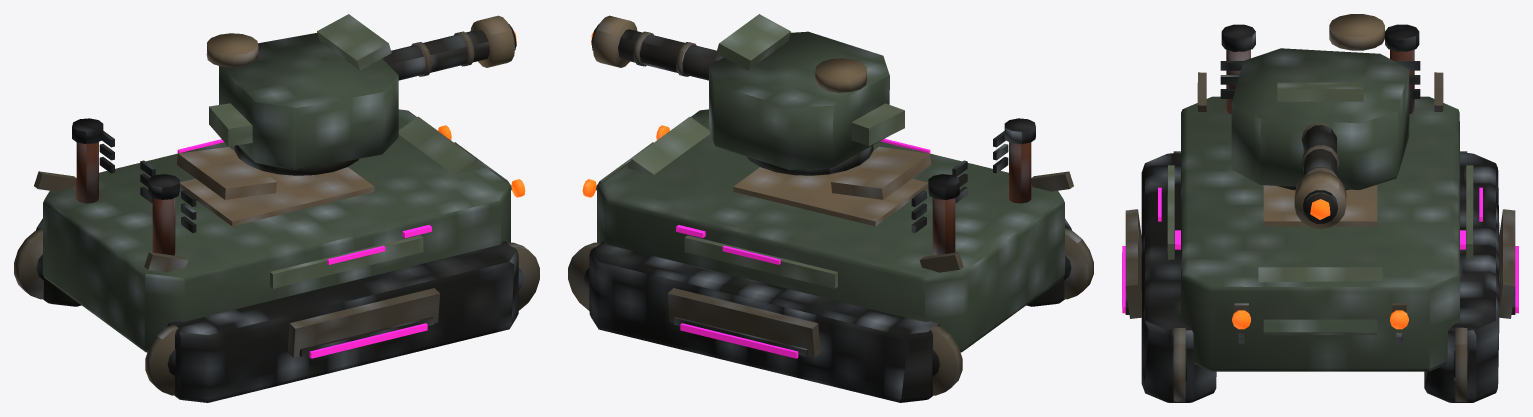
File: ordos_tank.glb
The picture shows the model from 3 angles, left to right: view 1: azimuth 30°, elevation 25°; view 2: azimuth 150°, elevation 25°; view 3: azimuth 270°, elevation 25°; orthographic projection. The views are drawn at different scales.
Parts seen in each view (by area): view 1: Sandwar3D; view 2: Sandwar3D; view 3: Sandwar3D.
Part boxes in pixels (left/top/right/bottom): Sandwar3D: left=14, top=14, right=539, bottom=402; Sandwar3D: left=568, top=14, right=1093, bottom=402; Sandwar3D: left=1122, top=14, right=1518, bottom=402.
Bounding box in the file's own units: 1.89 × 1.09 × 1.41.
Materials: 11 (10 with a texture image).
